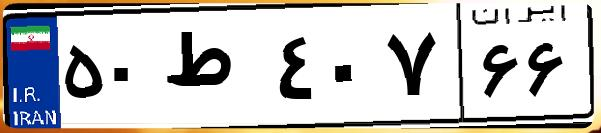0: (330, 28, 385, 110), (110, 28, 158, 98)
4: (270, 28, 330, 110)
5: (57, 26, 110, 100)
6: (475, 38, 525, 113), (525, 38, 570, 115)
7: (385, 28, 445, 110)
ط: (158, 20, 270, 120)
